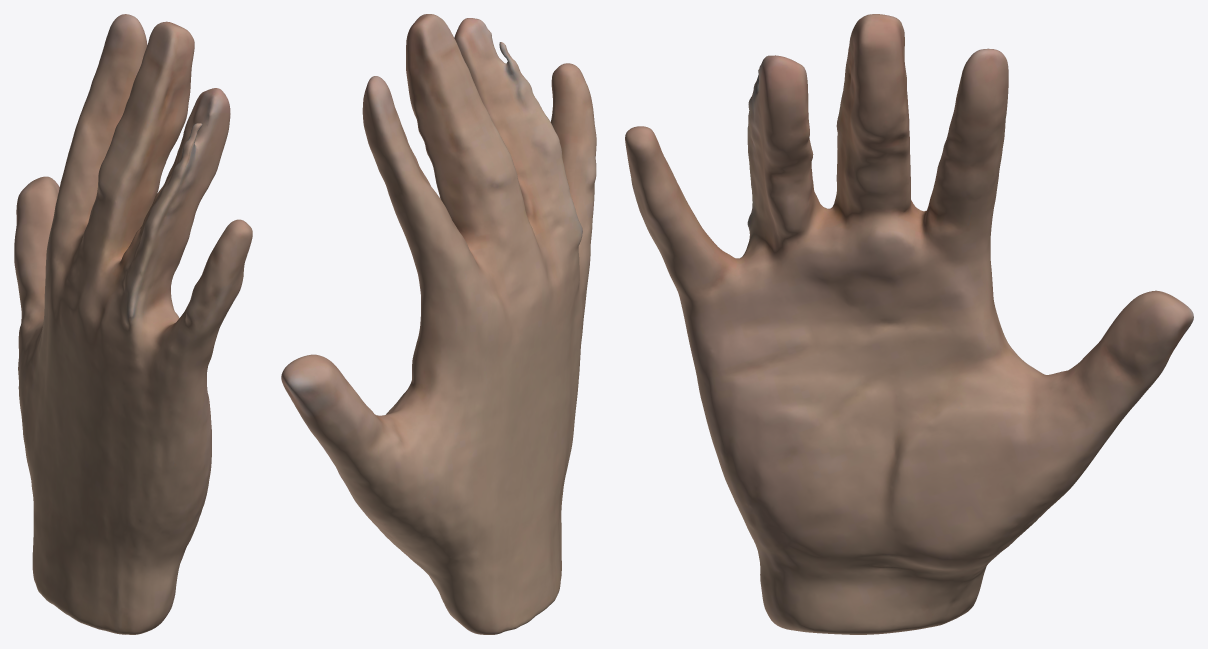
Rendered from 9344602a9b56_hand__3d_asset_0_gl.fbx.
3 views of the same model, side by side, from view 1: azimuth 30°, elevation 25°; view 2: azimuth 150°, elevation 25°; view 3: azimuth 270°, elevation 25° (orthographic). The views are drawn at different scales.
Visible parts, largest first — view 1: high_poly; view 2: high_poly; view 3: high_poly.
Boxes of the visible parts, x1,y1,x2,y2 form: high_poly: (14,14,252,634); high_poly: (281,14,596,634); high_poly: (625,14,1193,634).
Bounding box in the file's own units: 24.33 × 100 × 79.55.
